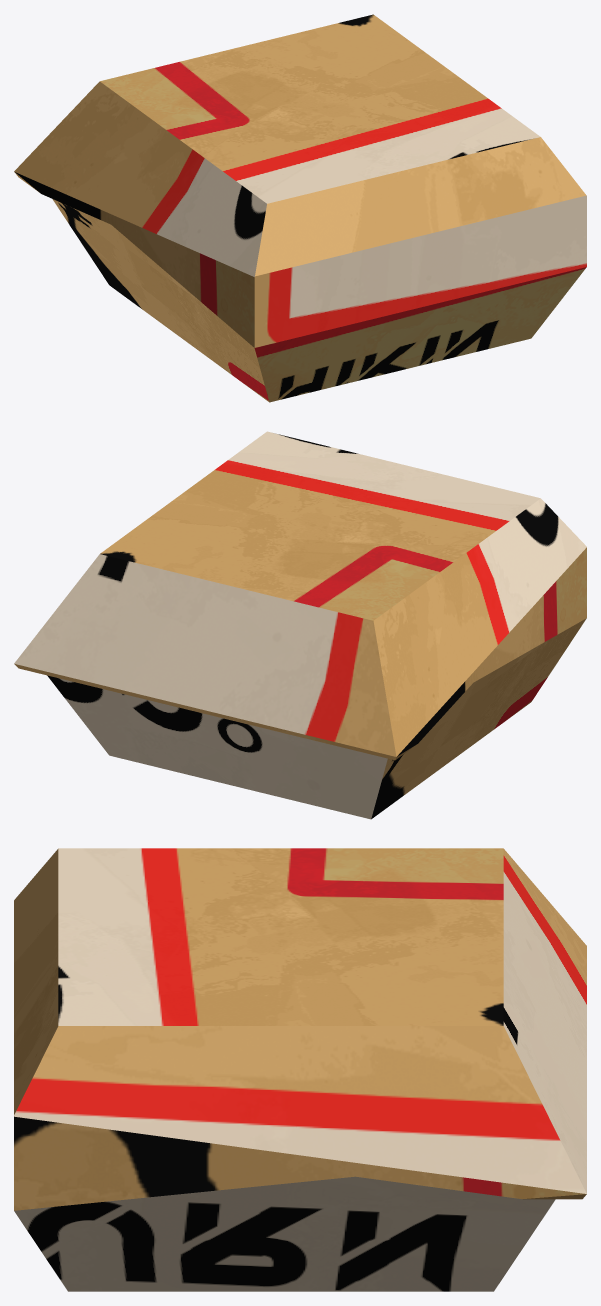
The model's file is nuggetbox.fbx.
3 views of the same model, one above another, from view 1: azimuth 30°, elevation 25°; view 2: azimuth 150°, elevation 25°; view 3: azimuth 270°, elevation 25° (orthographic). The views are drawn at different scales.
Visible parts, largest first — view 1: object_1; view 2: object_1; view 3: object_1.
Boxes of the visible parts, x1=… form: object_1: x1=14, y1=14, x2=586, y2=402; object_1: x1=14, y1=431, x2=586, y2=819; object_1: x1=14, y1=848, x2=586, y2=1291.
Size of the model in its own units: 460 by 233 by 449.
